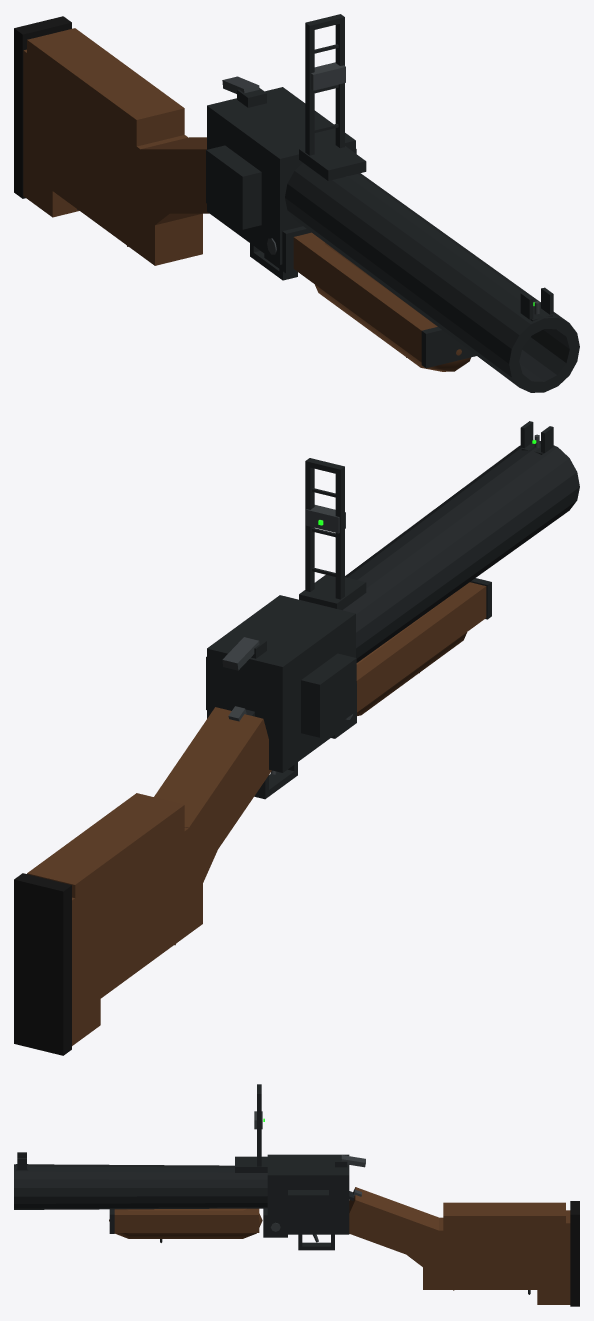
3 views of the same model, one above another, from view 1: azimuth 30°, elevation 25°; view 2: azimuth 150°, elevation 25°; view 3: azimuth 270°, elevation 25° (orthographic). The views are drawn at different scales.
Visible parts, largest first — view 1: Mesh_HollowBarrel, Mesh_StockBase, Mesh_StockComb, Mesh_Receiver, Mesh_HandguardBase, Mesh_StockGrip, Mesh_ReceiverPlateL, Mesh_Buttplate, Mesh_RearSightBase, Mesh_StockToe, Mesh_HandguardCap, Mesh_RearSightLeft (+6 smaller); view 2: Mesh_HollowBarrel, Mesh_Receiver, Mesh_StockBase, Mesh_StockGrip, Mesh_Buttplate, Mesh_StockComb, Mesh_HandguardBase, Mesh_ReceiverPlateL, Mesh_RearSightBase, Mesh_StockToe, Mesh_RearSightLeft, Mesh_StockHeel (+3 smaller); view 3: Mesh_HollowBarrel, Mesh_StockBase, Mesh_Receiver, Mesh_StockGrip, Mesh_HandguardBase, Mesh_StockComb, Mesh_ReceiverPlateR, Mesh_HandguardRound, Mesh_Buttplate, Mesh_StockToe, Mesh_StockHeel, Mesh_RearSightBase (+2 smaller).
Boxes of the visible parts, left/top/right/bottom form: Mesh_HollowBarrel: left=285, top=163, right=579, bottom=392; Mesh_StockBase: left=23, top=64, right=202, bottom=265; Mesh_StockComb: left=27, top=28, right=184, bottom=158; Mesh_Receiver: left=207, top=87, right=355, bottom=264; Mesh_HandguardBase: left=293, top=232, right=437, bottom=362; Mesh_StockGrip: left=141, top=137, right=209, bottom=213; Mesh_ReceiverPlateL: left=206, top=145, right=261, bottom=229; Mesh_Buttplate: left=14, top=16, right=71, bottom=198; Mesh_RearSightBase: left=299, top=140, right=366, bottom=180; Mesh_StockToe: left=23, top=118, right=79, bottom=217; Mesh_HandguardCap: left=421, top=327, right=476, bottom=368; Mesh_RearSightLeft: left=305, top=25, right=314, bottom=155; Mesh_HollowBarrel: left=343, top=441, right=579, bottom=662; Mesh_Receiver: left=207, top=595, right=355, bottom=772; Mesh_StockBase: left=72, top=818, right=202, bottom=1019; Mesh_StockGrip: left=154, top=707, right=271, bottom=873; Mesh_Buttplate: left=14, top=873, right=71, bottom=1055; Mesh_StockComb: left=27, top=793, right=184, bottom=922; Mesh_HandguardBase: left=356, top=582, right=486, bottom=712; Mesh_ReceiverPlateL: left=301, top=653, right=356, bottom=737; Mesh_RearSightBase: left=299, top=574, right=366, bottom=610; Mesh_StockToe: left=72, top=947, right=100, bottom=1045; Mesh_RearSightLeft: left=335, top=469, right=344, bottom=599; Mesh_StockHeel: left=72, top=883, right=100, bottom=952; Mesh_HollowBarrel: left=14, top=1164, right=267, bottom=1209; Mesh_StockBase: left=423, top=1217, right=570, bottom=1289; Mesh_Receiver: left=267, top=1154, right=349, bottom=1234; Mesh_StockGrip: left=349, top=1187, right=438, bottom=1260; Mesh_HandguardBase: left=114, top=1208, right=259, bottom=1232; Mesh_StockComb: left=443, top=1202, right=565, bottom=1230; Mesh_ReceiverPlateR: left=288, top=1190, right=328, bottom=1224; Mesh_HandguardRound: left=109, top=1208, right=262, bottom=1238; Mesh_Buttplate: left=570, top=1201, right=579, bottom=1306; Mesh_StockToe: left=537, top=1260, right=570, bottom=1304; Mesh_StockHeel: left=537, top=1210, right=570, bottom=1242; Mesh_RearSightBase: left=235, top=1156, right=267, bottom=1172.
Size of the model in its own units: 0.09 by 0.284 by 0.692.
